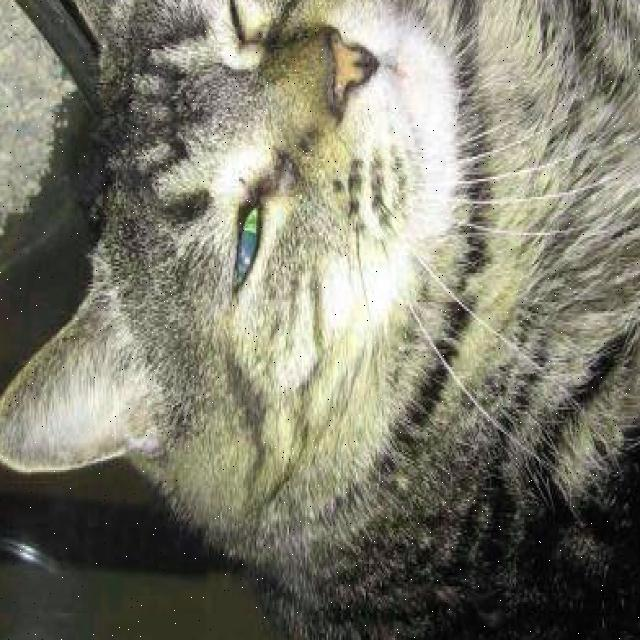Cat: (0, 0, 467, 573)
